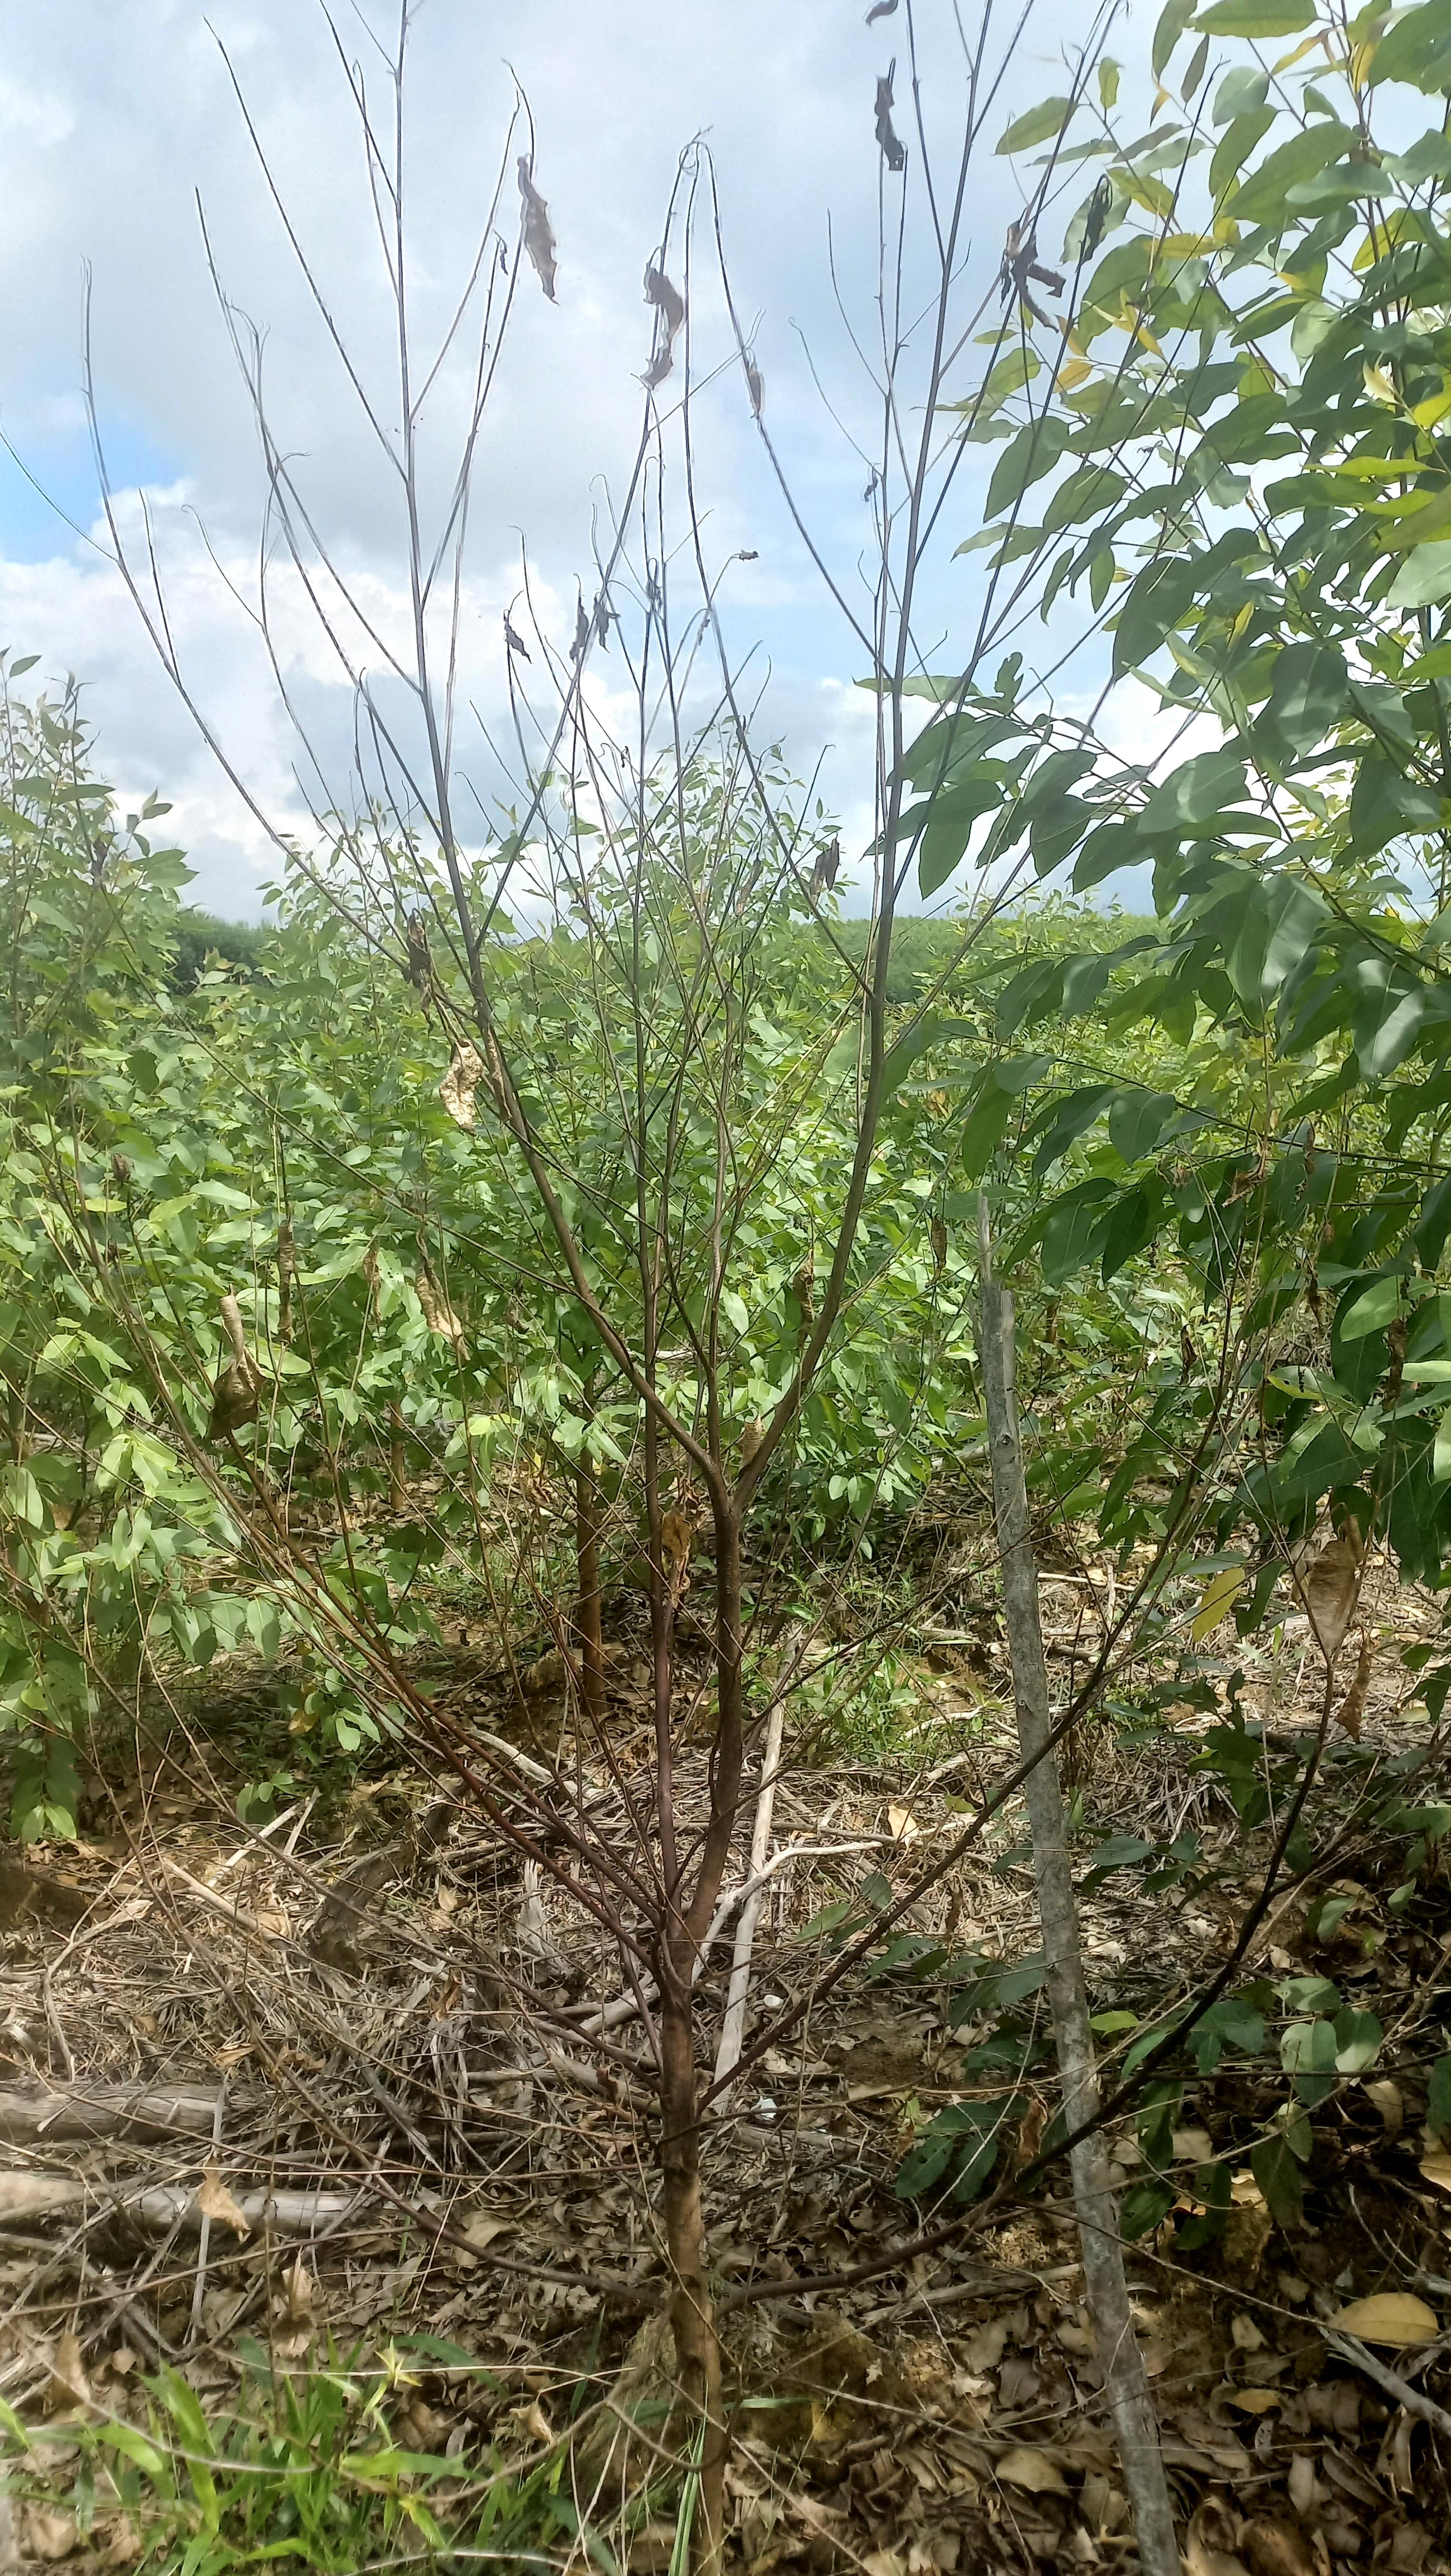Helopeltis-Withered Sprout: (1295, 1506, 1375, 1658), (501, 145, 579, 299), (391, 1221, 471, 1359), (842, 53, 917, 193), (982, 221, 1067, 343), (633, 235, 692, 396), (209, 1281, 262, 1447), (642, 1504, 708, 1612), (556, 571, 625, 665), (395, 899, 444, 1026), (435, 1039, 492, 1138), (1072, 165, 1124, 267), (1216, 1132, 1285, 1201), (69, 814, 122, 901), (782, 1253, 832, 1345), (1366, 1345, 1414, 1415), (807, 833, 853, 904), (1302, 1256, 1341, 1334), (925, 1217, 961, 1293), (501, 600, 534, 663), (1058, 1704, 1090, 1771), (727, 534, 770, 571)
